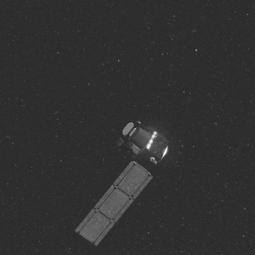earth_observation_sat_1: (102, 116, 179, 200)
